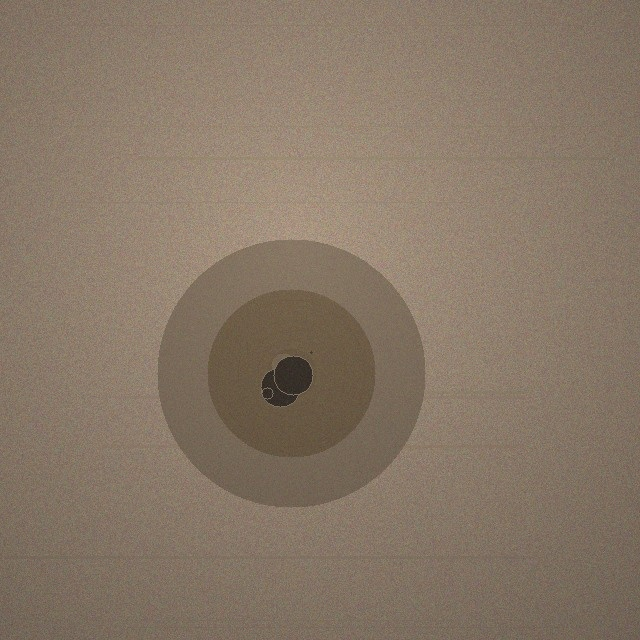shrinkage: (157, 239, 425, 507)
